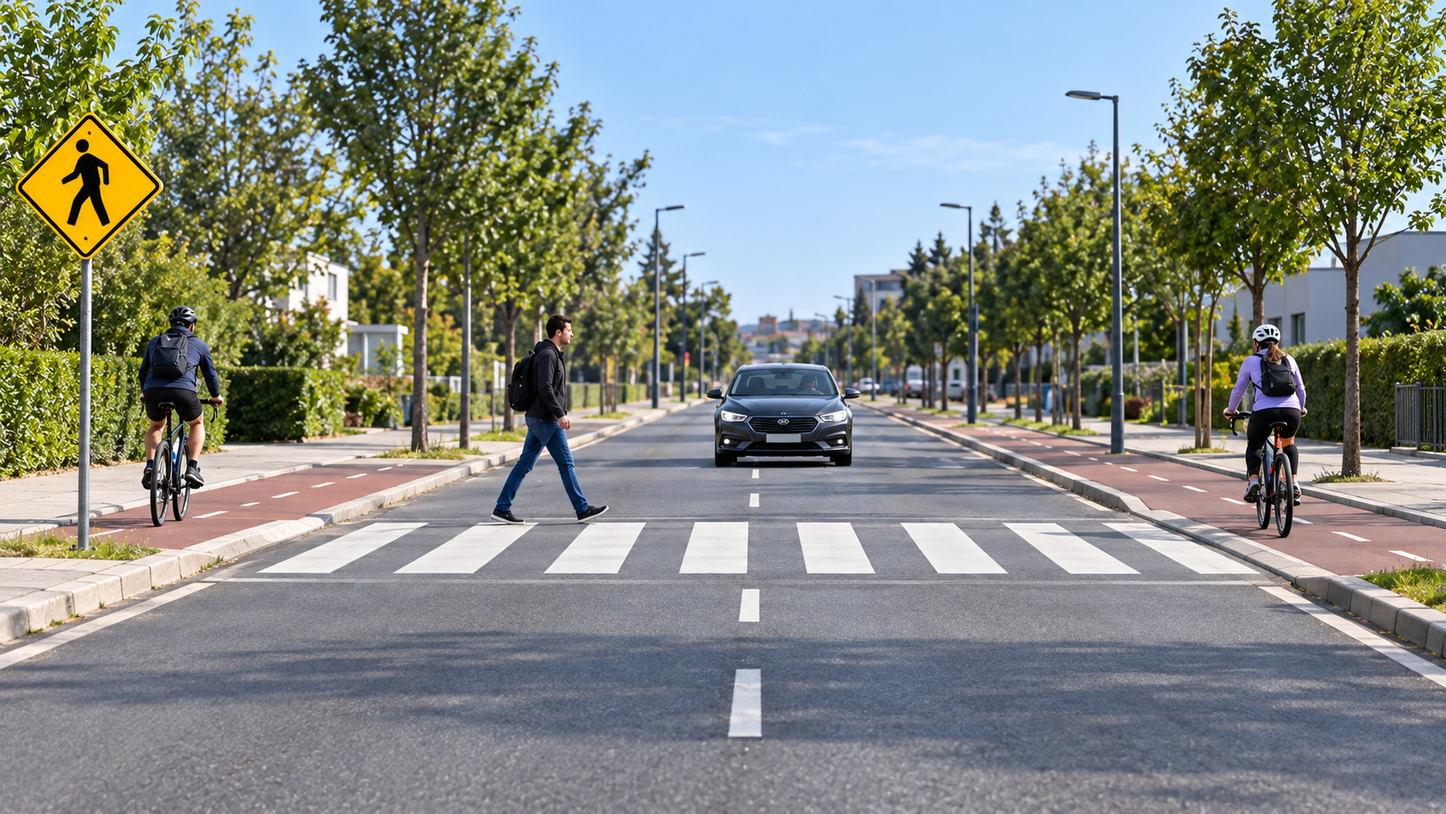bicycle: (137, 370, 228, 524), (1224, 387, 1313, 537)
car: (707, 362, 861, 470)
crossing_warning_sign: (16, 113, 163, 260)
person: (491, 312, 608, 525), (1222, 324, 1315, 514), (135, 306, 229, 490)
zebra_crossing: (228, 518, 1070, 578)
